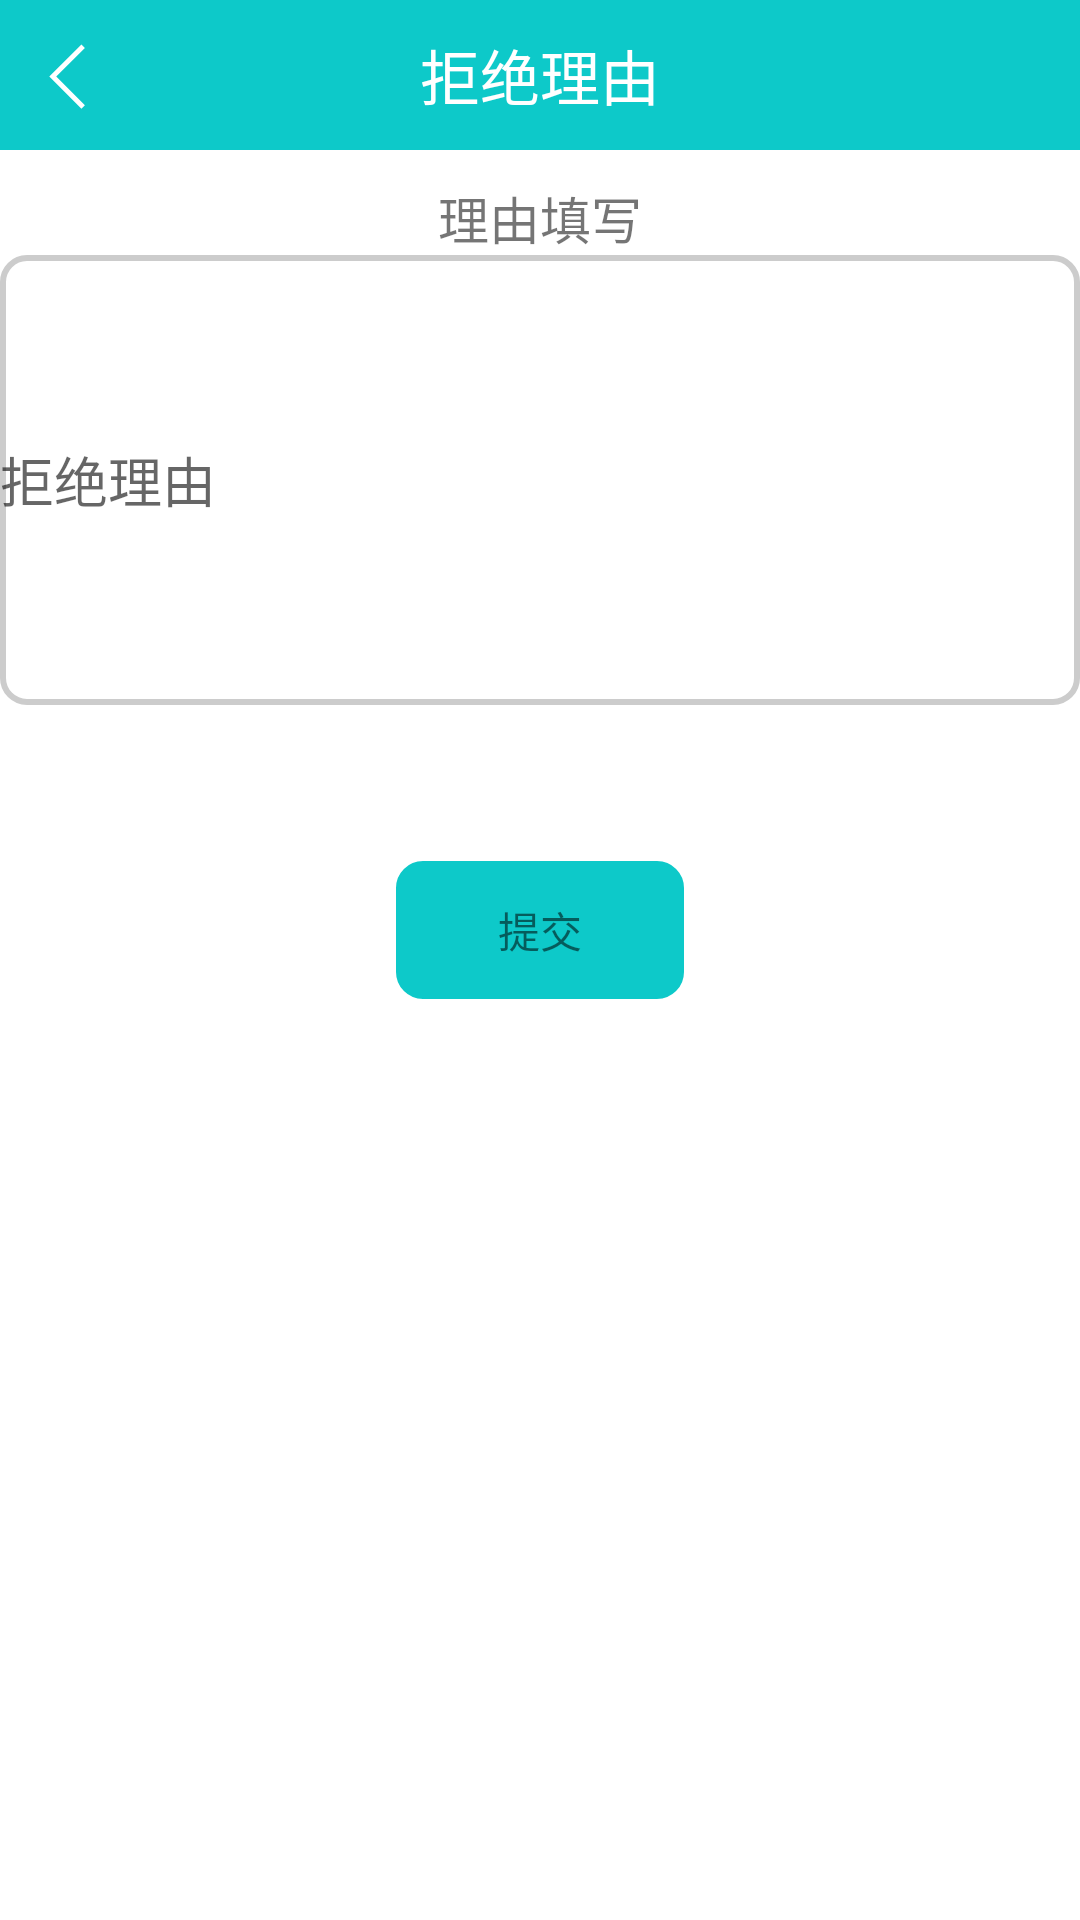

Screen size 1080w x 1920h. Icon name, then its box in pixels as (x1, y1, x2, y2):
back: (49, 44, 85, 109)
